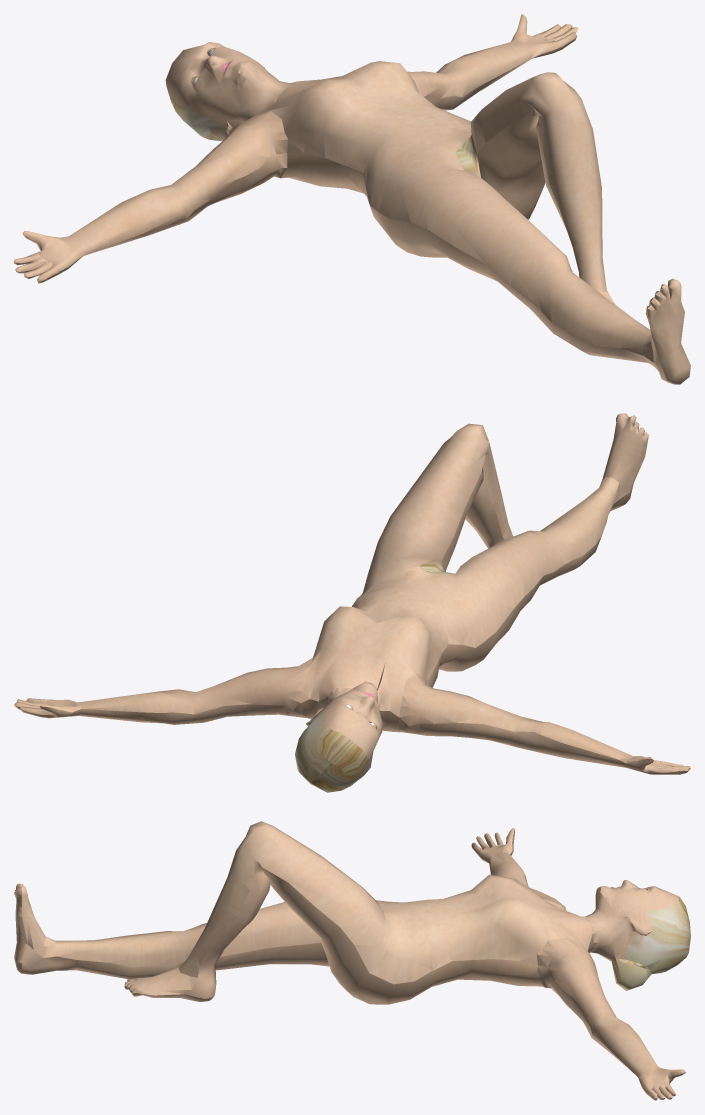
The model's file is femme.FBX.
3 renders of one model, top to bottom at view 1: azimuth 30°, elevation 25°; view 2: azimuth 150°, elevation 25°; view 3: azimuth 270°, elevation 25°, orthographic. The views are drawn at different scales.
Parts seen in each view (by area): view 1: SWom0001-S; view 2: SWom0001-S; view 3: SWom0001-S.
Part boxes in pixels (<box>): SWom0001-S: <box>14,14,690,384</box>; SWom0001-S: <box>14,413,690,792</box>; SWom0001-S: <box>14,821,690,1100</box>.
Bounding box in the file's own units: 1.61 × 0.5268 × 1.75.
4 materials, 4 textured.
